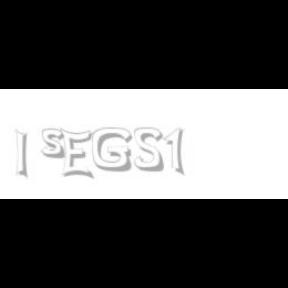1: (163, 128, 185, 176)
E: (60, 128, 92, 180)
G: (92, 128, 132, 172)
I: (16, 128, 29, 180)
S: (135, 128, 166, 172)
s: (41, 128, 69, 160)
